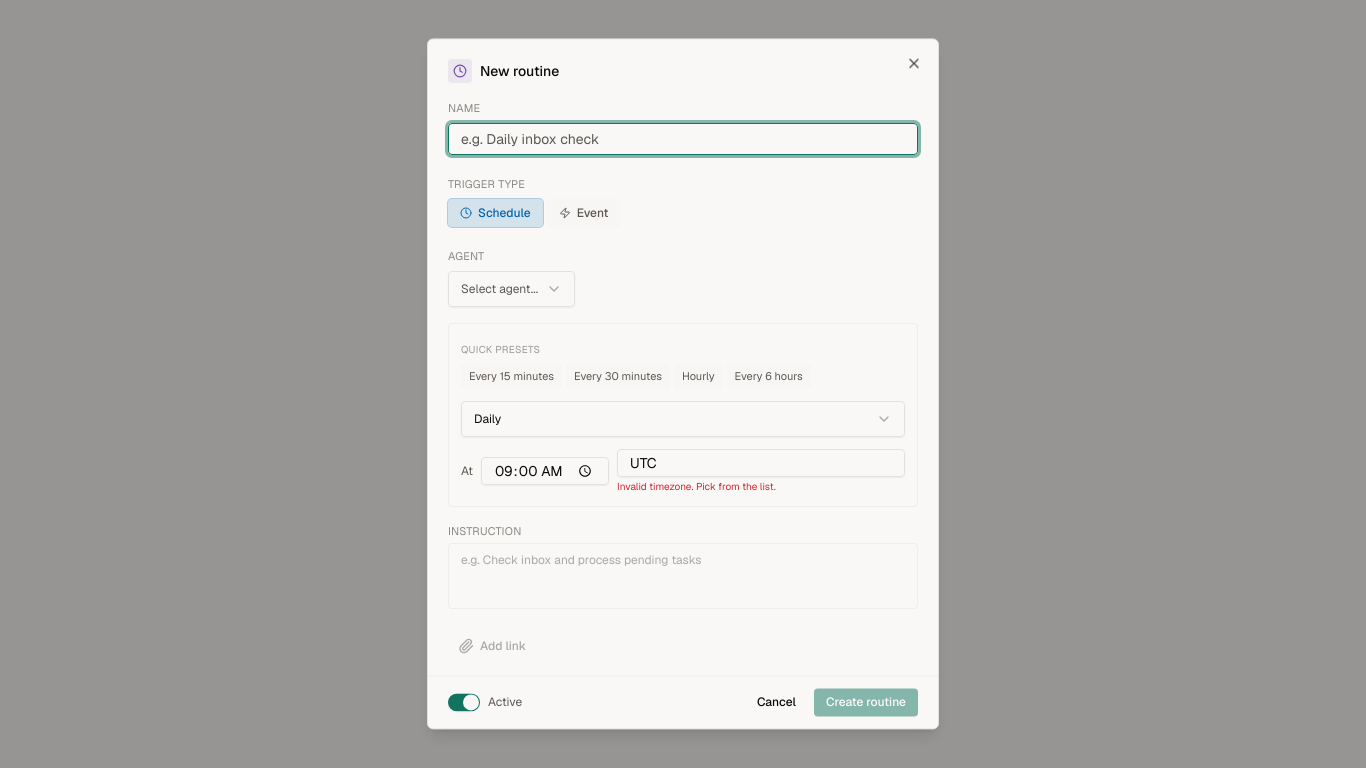
Test: RoutineForm › hides schedule config when switching to event
Expected: the text "Quick presets" is shown, [461, 343, 540, 356]
Click the button "Event" at [584, 213], box [547, 199, 620, 227]
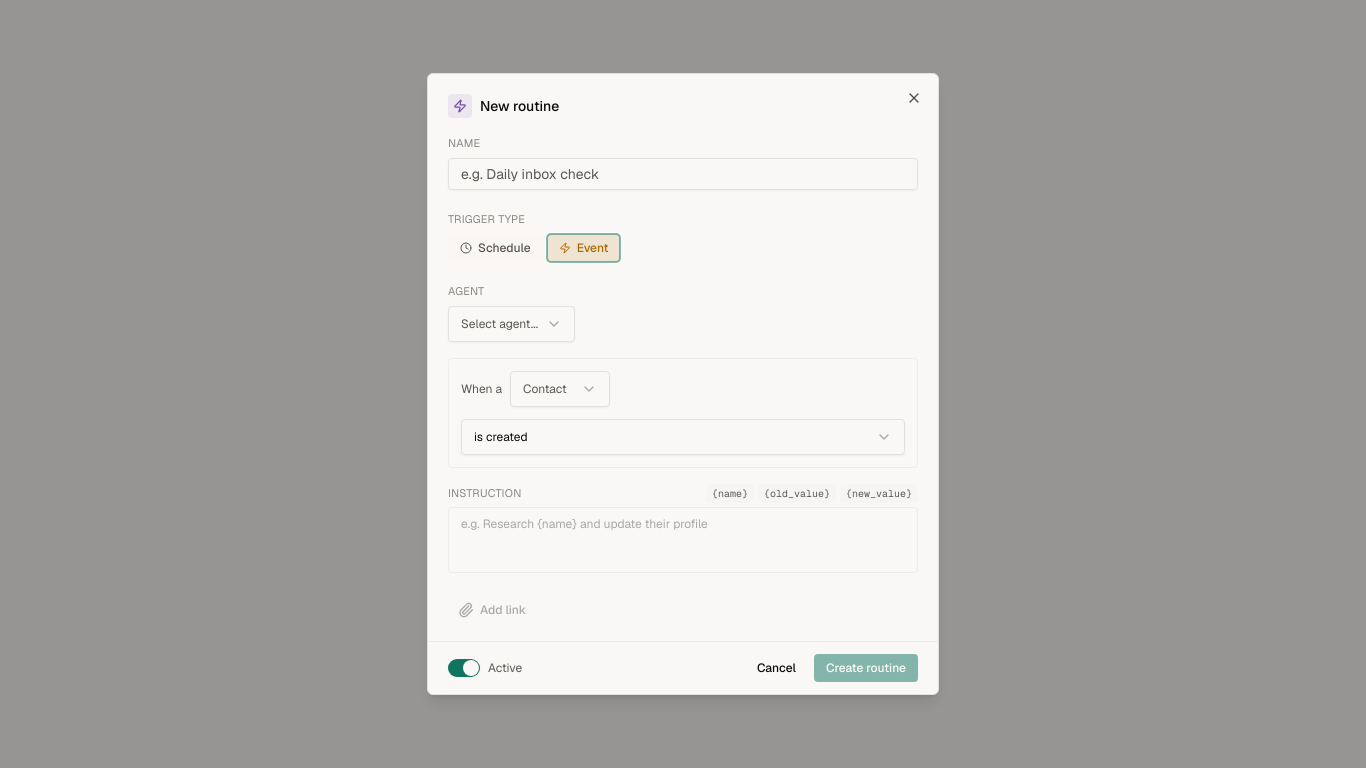
Expected: the text "Quick presets" is gone
